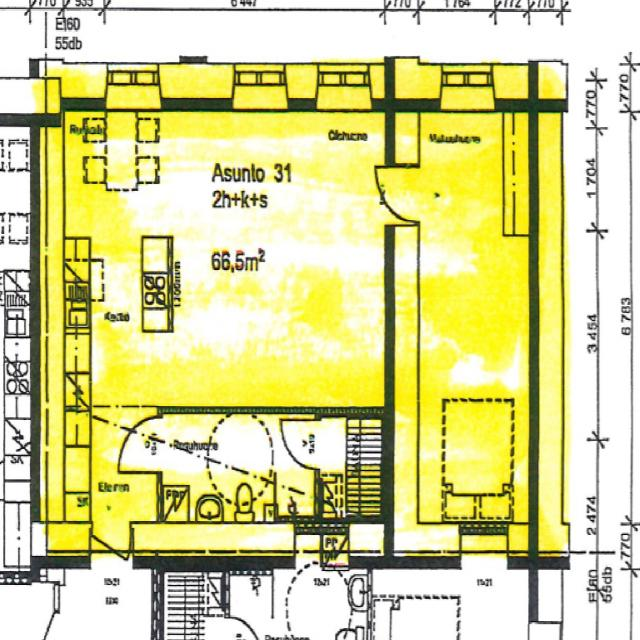door: (342, 165, 419, 226), (90, 523, 131, 629), (120, 419, 162, 472), (280, 421, 320, 469)
